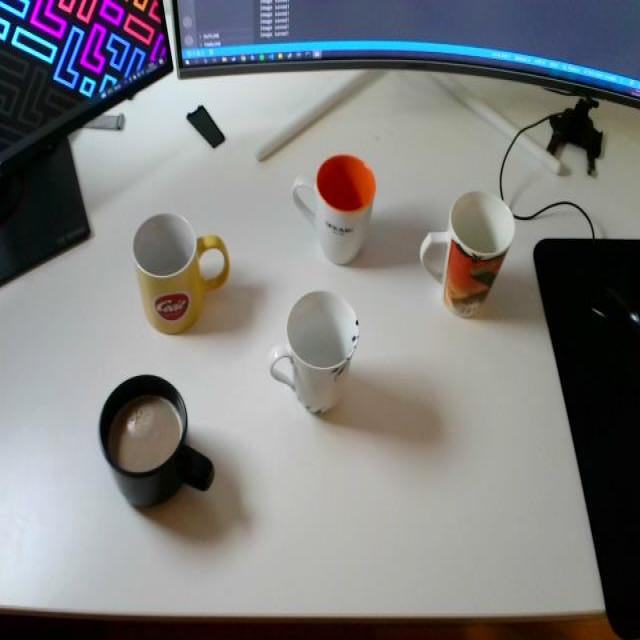cup: (86, 355, 216, 528), (265, 280, 369, 437), (121, 198, 239, 335), (419, 185, 516, 335), (283, 148, 387, 275)
